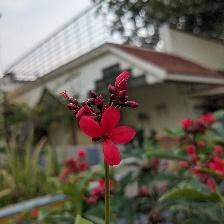jatropha: (77, 108, 139, 170)
